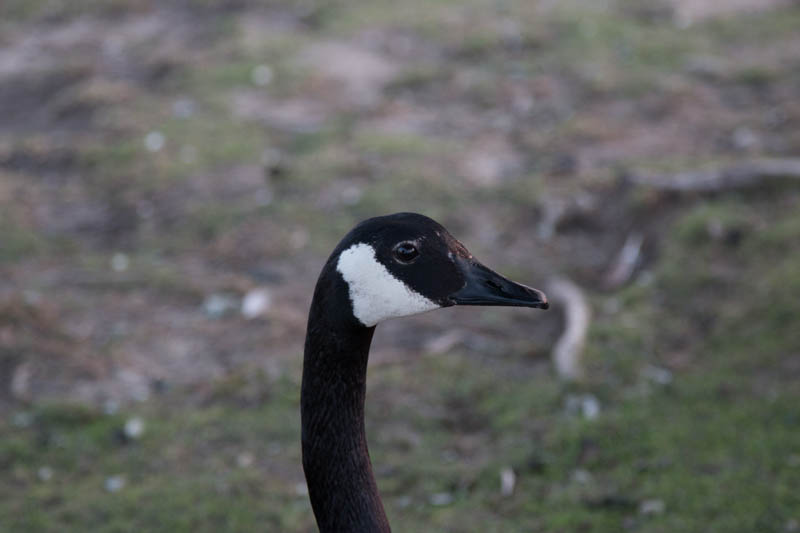goose-head: (305, 212, 551, 329)
